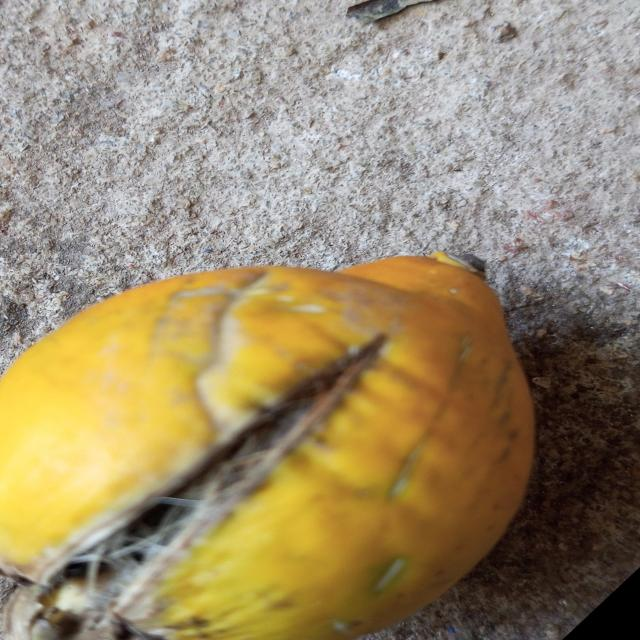damaged: (0, 253, 534, 640)
